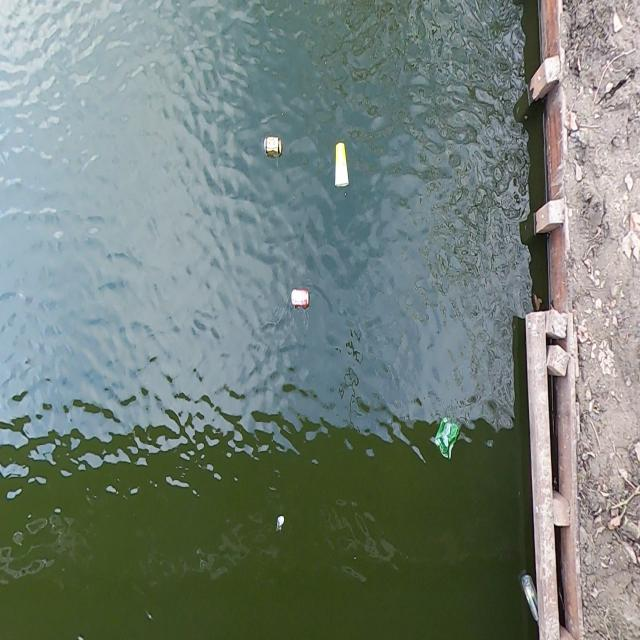Non plastique: (332, 138, 353, 194), (289, 287, 312, 311), (262, 134, 283, 160)
Sac plastique: (433, 414, 463, 466)
